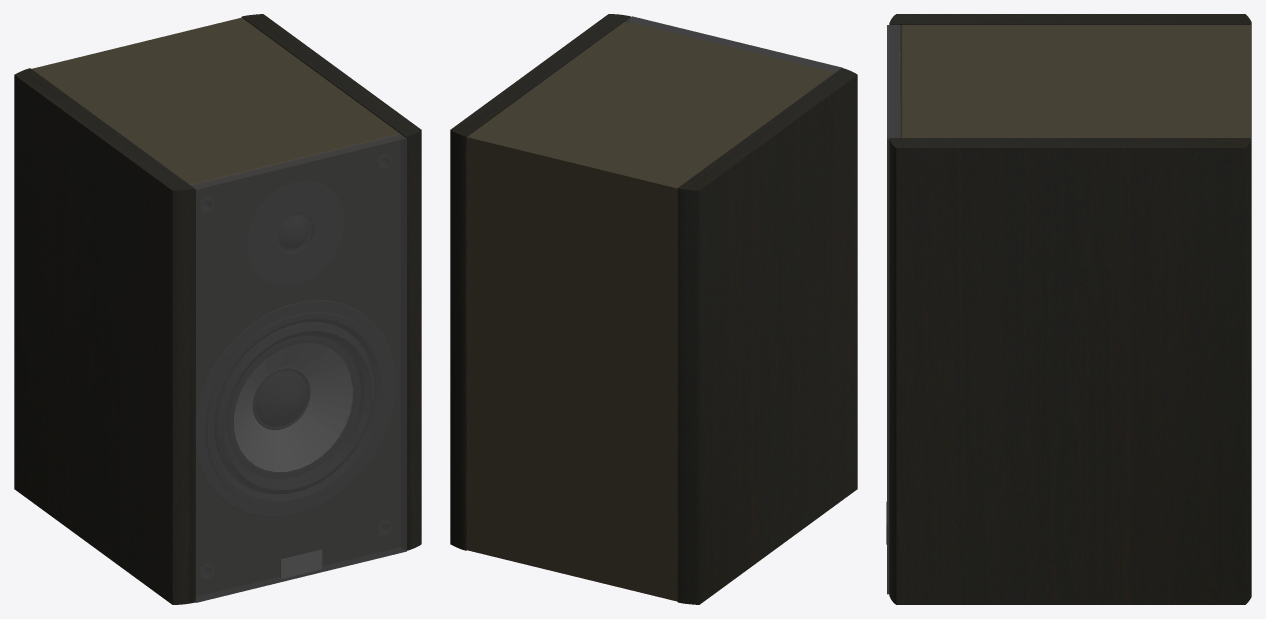
File: sweethome3d-blendswap-cc-0-speaker-42.glb
3 renders of one model, left to right at view 1: azimuth 30°, elevation 25°; view 2: azimuth 150°, elevation 25°; view 3: azimuth 270°, elevation 25°, orthographic. The views are drawn at different scales.
Parts seen in each view (by area): view 1: front_panel.001_Cube.003, sides.001_Cube.004, body.001_Cube.005, high_freq_speaker.001_Circle.006, low_freq_speaker.001_Circle.005, logo.001_Cube.008; view 2: body.001_Cube.005, sides.001_Cube.004, front_panel.001_Cube.003; view 3: sides.001_Cube.004, body.001_Cube.005, front_panel.001_Cube.003.
Part boxes in pixels (x1,y1,x2,y2): front_panel.001_Cube.003: [190, 134, 406, 602]; sides.001_Cube.004: [14, 14, 421, 604]; body.001_Cube.005: [32, 17, 399, 594]; high_freq_speaker.001_Circle.006: [247, 181, 343, 281]; low_freq_speaker.001_Circle.005: [195, 300, 395, 516]; logo.001_Cube.008: [280, 549, 322, 578]; body.001_Cube.005: [467, 21, 834, 601]; sides.001_Cube.004: [450, 14, 857, 604]; front_panel.001_Cube.003: [626, 16, 842, 72]; sides.001_Cube.004: [889, 14, 1251, 604]; body.001_Cube.005: [900, 25, 1250, 137]; front_panel.001_Cube.003: [887, 25, 900, 594].
Bounding box in the file's own units: 22.1 × 35.38 × 25.45.
6 materials, 1 textured.
